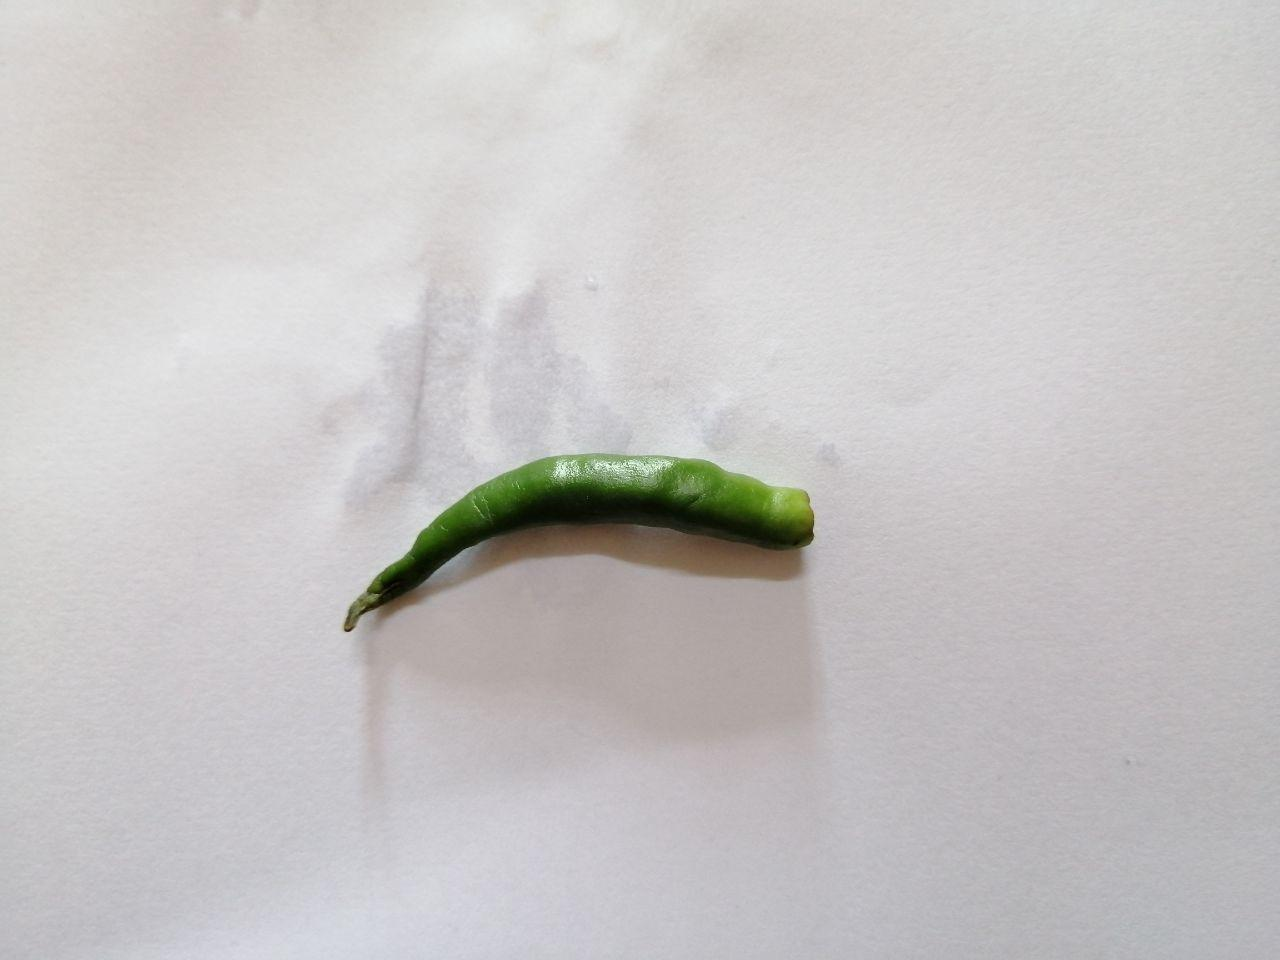lada hijau: (315, 428, 858, 658)
